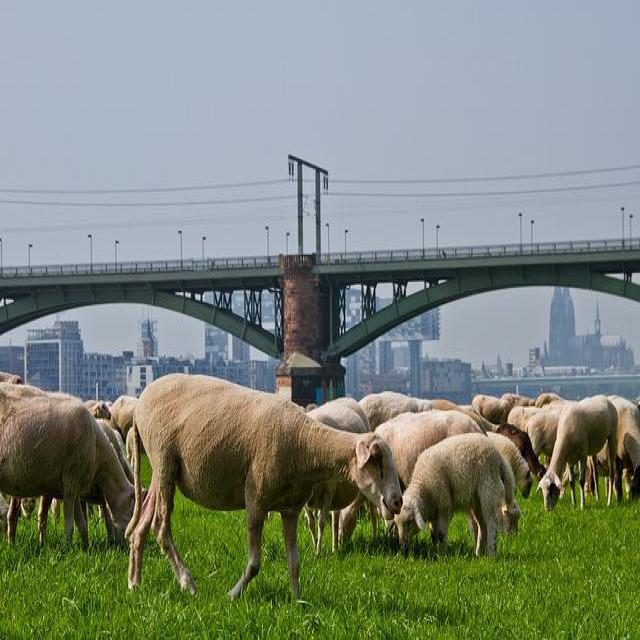Sheep: (16, 370, 639, 546), (123, 372, 407, 606), (0, 380, 134, 552), (394, 432, 514, 558), (535, 392, 620, 512), (305, 406, 370, 559), (378, 411, 487, 496), (93, 418, 134, 544), (484, 430, 537, 502), (494, 424, 548, 489), (522, 408, 560, 458)
